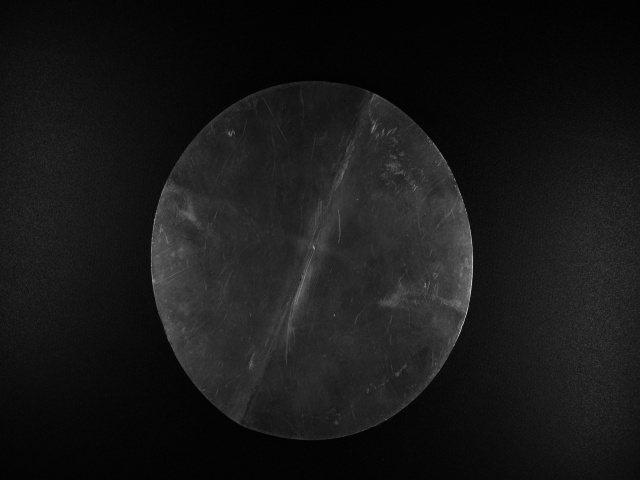zhe_zhou: (202, 126, 426, 391)
